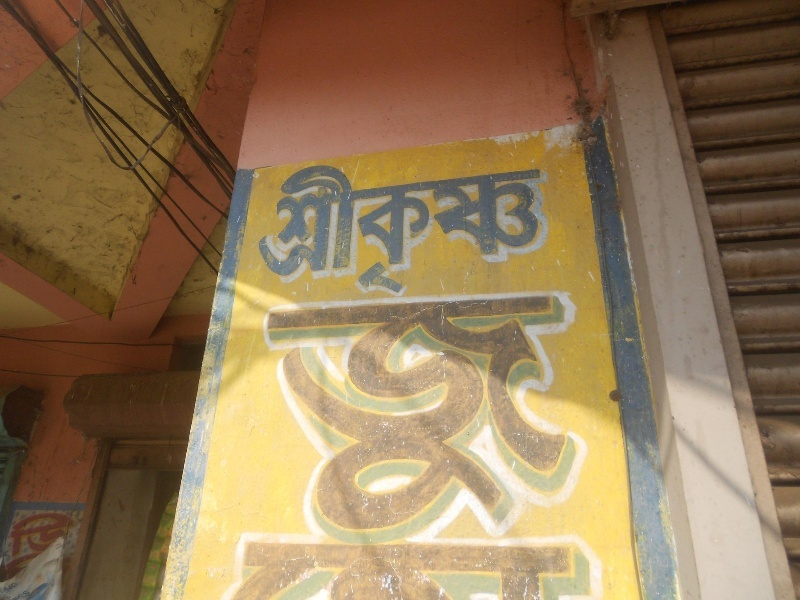text: (273, 284, 288, 542), (289, 284, 304, 542), (305, 284, 320, 542), (321, 284, 336, 542), (337, 284, 352, 542), (353, 284, 368, 542), (369, 284, 384, 542), (385, 284, 400, 542), (401, 284, 416, 542), (417, 284, 432, 542), (433, 284, 448, 542), (449, 284, 464, 542), (465, 284, 480, 542), (481, 284, 496, 542), (497, 284, 512, 542), (513, 284, 528, 542), (529, 284, 544, 542), (545, 284, 560, 542), (561, 284, 576, 542), (577, 284, 592, 542), (259, 284, 272, 542), (257, 164, 272, 296), (273, 164, 288, 296), (289, 164, 304, 296), (305, 164, 320, 296), (321, 164, 336, 296), (337, 164, 352, 296), (353, 164, 368, 296), (369, 164, 384, 296), (385, 164, 400, 296), (401, 164, 416, 296), (417, 164, 432, 296), (433, 164, 448, 296), (449, 164, 464, 296), (465, 164, 480, 296), (481, 164, 496, 296), (497, 164, 512, 296), (513, 164, 528, 296), (529, 164, 544, 296), (17, 505, 32, 597), (33, 505, 48, 597), (49, 505, 64, 597), (65, 505, 80, 597), (257, 543, 272, 600), (273, 543, 288, 600), (289, 543, 304, 600), (305, 543, 320, 600), (321, 543, 336, 600), (337, 543, 352, 600), (353, 543, 368, 600), (369, 543, 384, 600), (385, 543, 400, 600), (401, 543, 416, 600), (417, 543, 432, 600), (433, 543, 448, 600), (449, 543, 464, 600), (465, 543, 480, 600), (481, 543, 496, 600), (497, 543, 512, 600), (513, 543, 528, 600), (529, 543, 544, 600), (545, 543, 560, 600), (561, 543, 576, 600), (545, 164, 551, 296), (243, 543, 256, 600), (577, 543, 588, 600), (593, 284, 595, 542), (255, 164, 256, 296), (15, 505, 16, 597)
